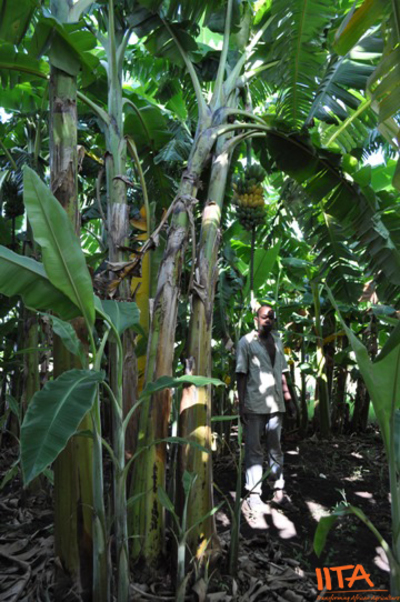bananaHand: (232, 162, 269, 232)
